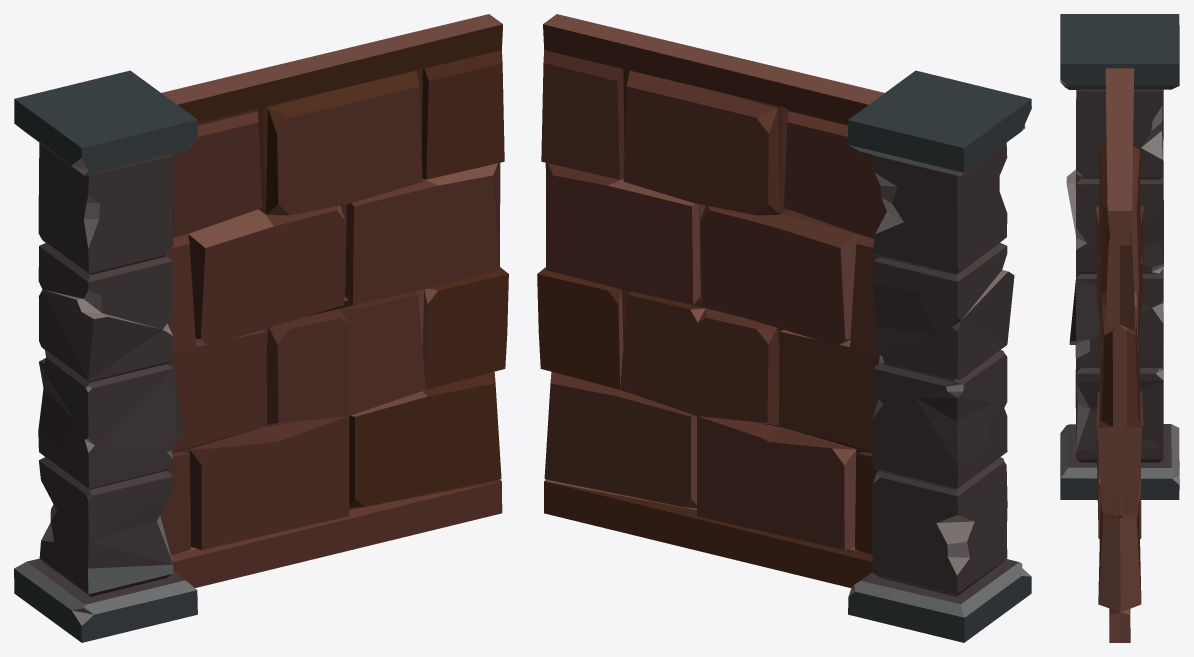
File: Wall 5m.fbx
3 renders of one model, left to right at view 1: azimuth 30°, elevation 25°; view 2: azimuth 150°, elevation 25°; view 3: azimuth 270°, elevation 25°, orthographic. The views are drawn at different scales.
Parts seen in each view (by area): view 1: Wall 5m; view 2: Wall 5m; view 3: Wall 5m.
Part boxes in pixels (x1=…): Wall 5m: x1=14, y1=14, x2=508, y2=642; Wall 5m: x1=537, y1=14, x2=1031, y2=642; Wall 5m: x1=1060, y1=14, x2=1179, y2=642.
Size of the model in its own units: 575 by 606 by 150.
